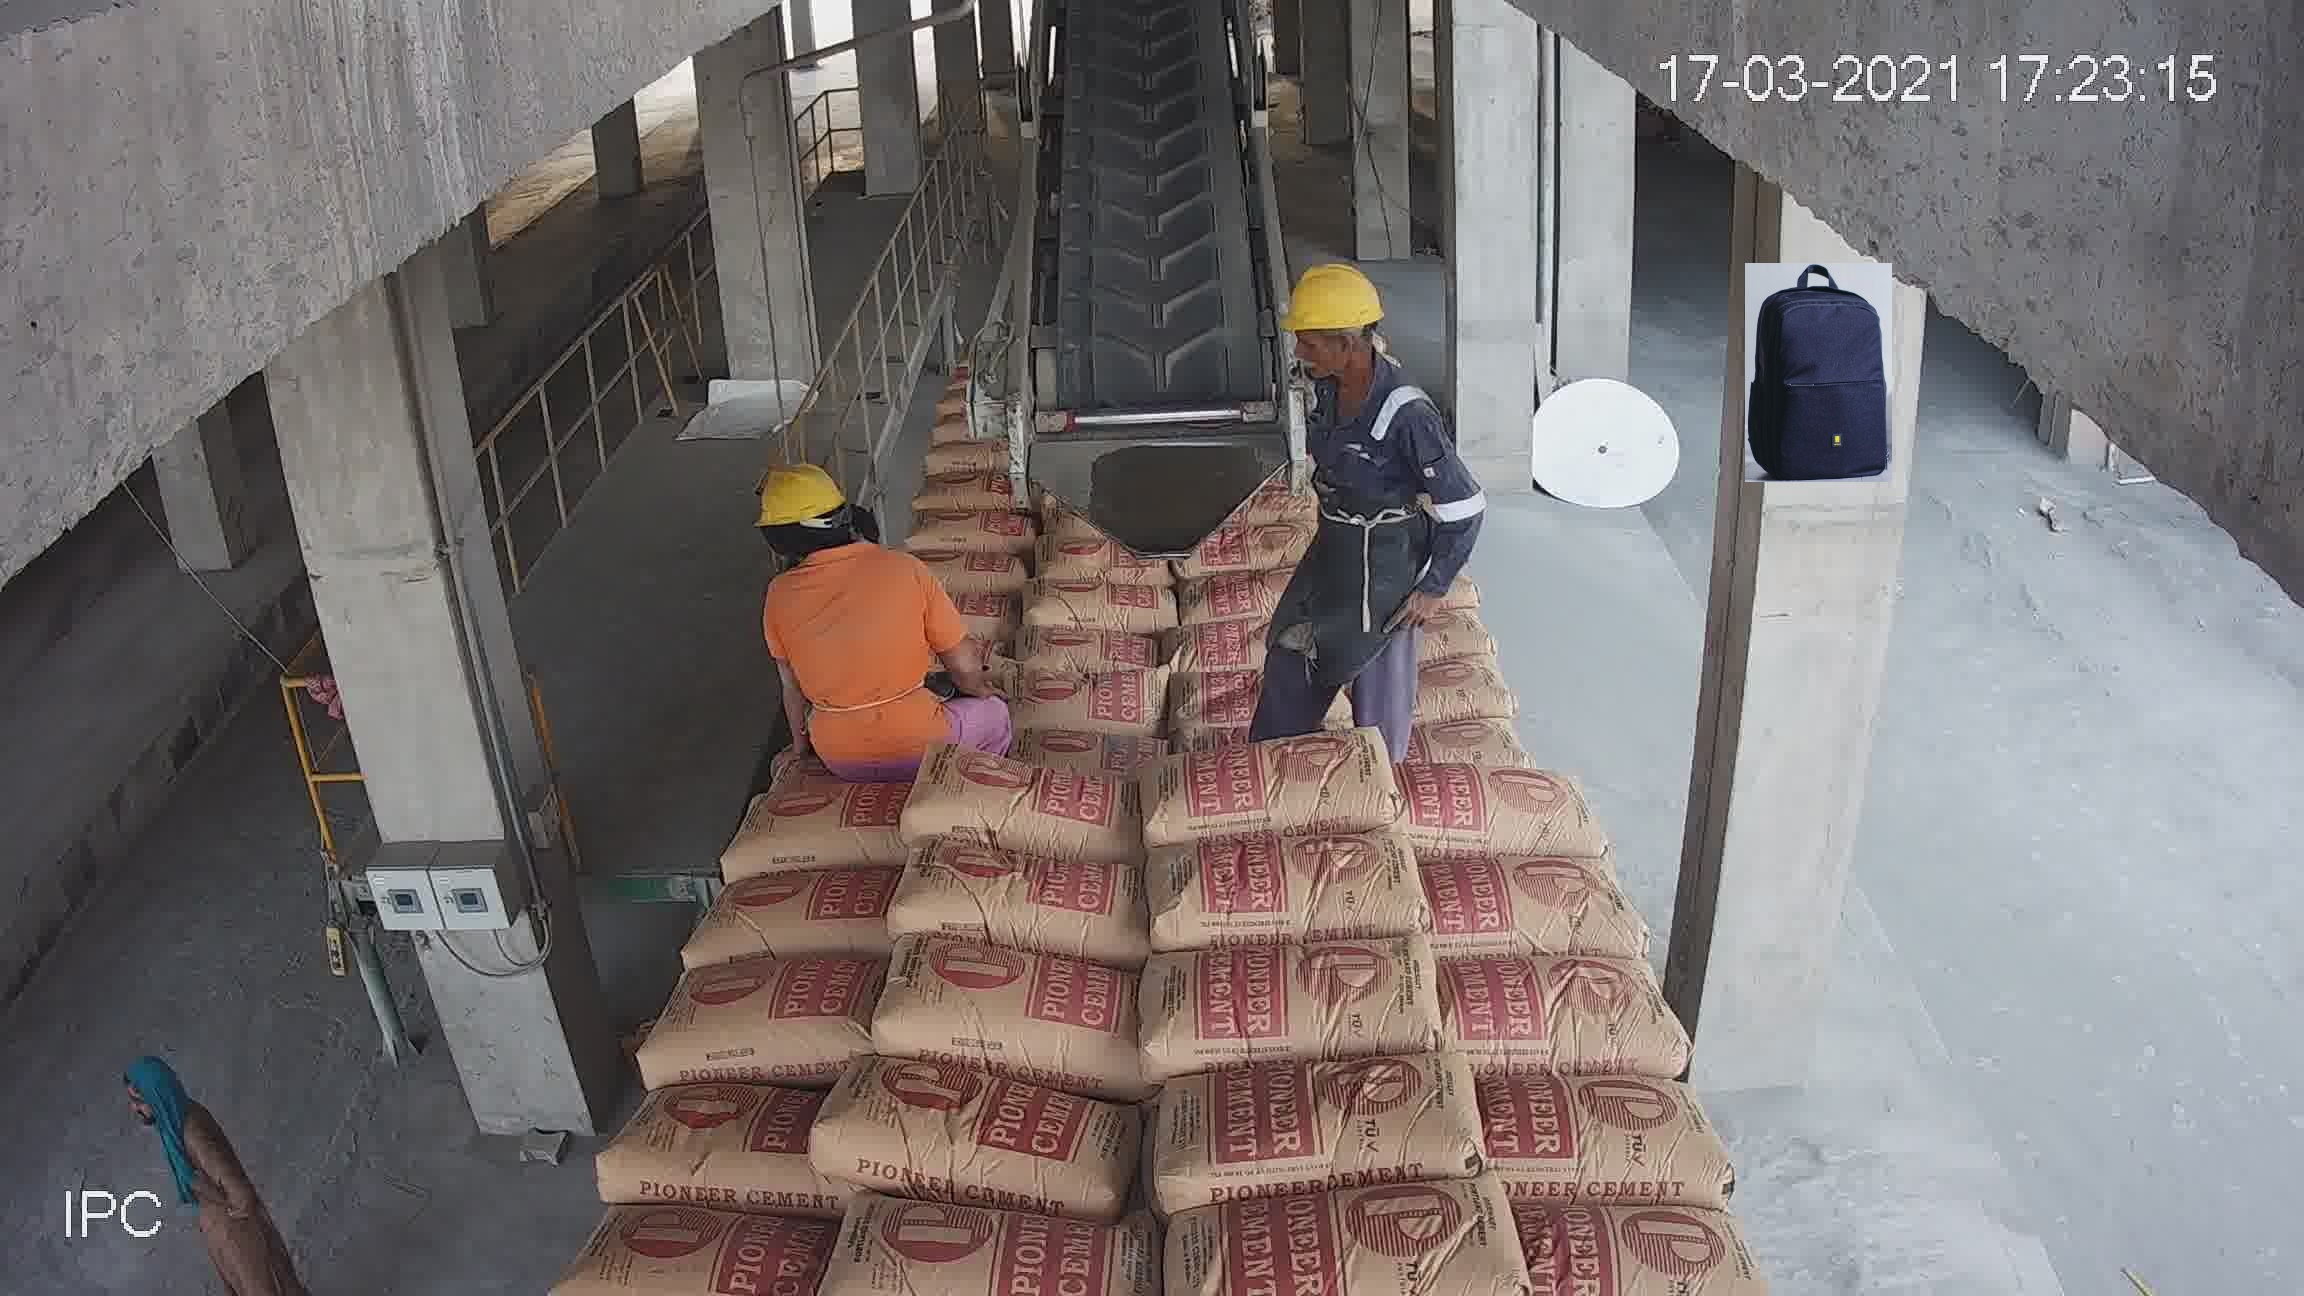bag: (1087, 187, 1206, 313)
belt: (1043, 13, 1264, 404)
